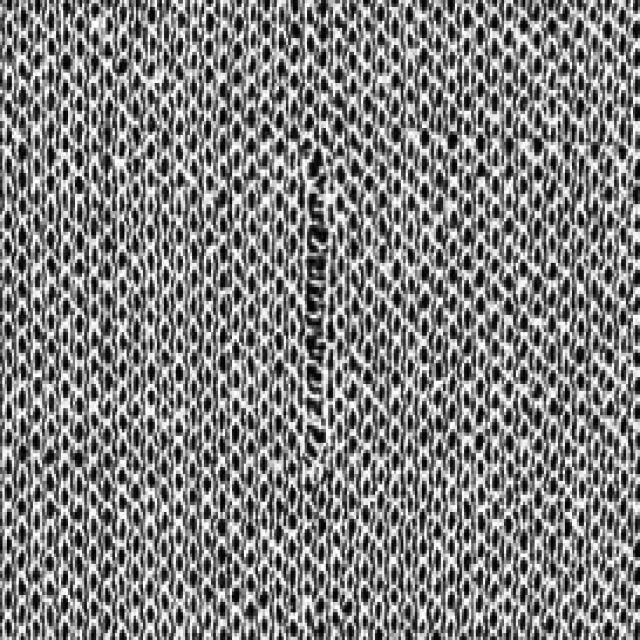cut: (286, 126, 348, 494)
